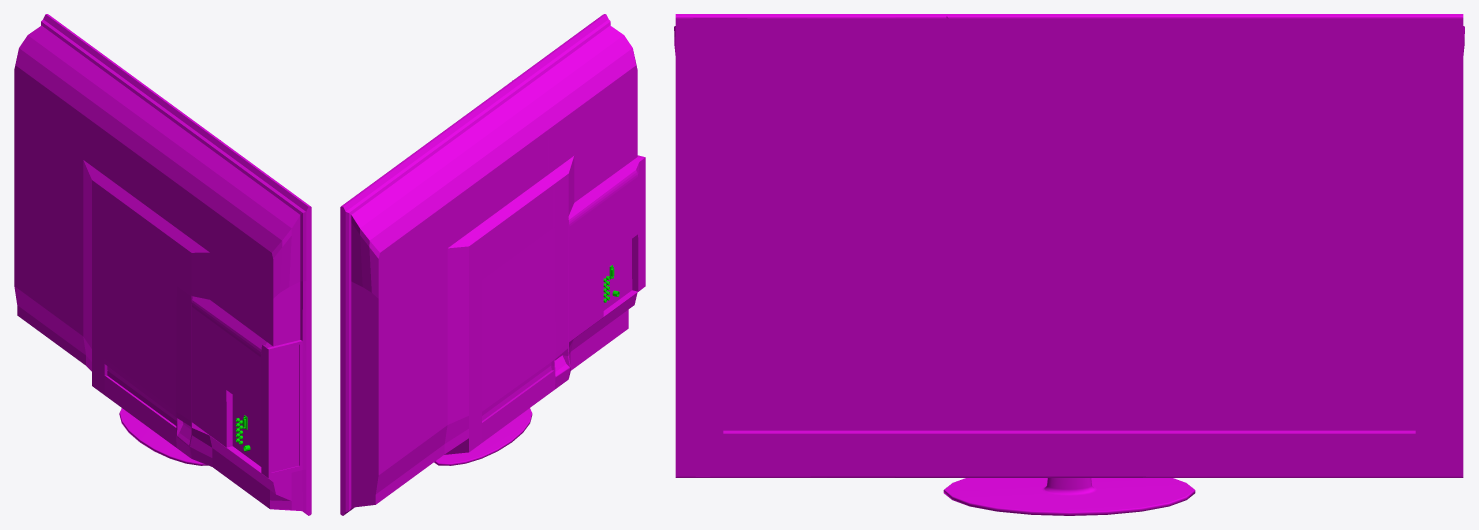
The model's file is television_low.fbx.
3 renders of one model, left to right at view 1: azimuth 30°, elevation 25°; view 2: azimuth 150°, elevation 25°; view 3: azimuth 270°, elevation 25°, orthographic. The views are drawn at different scales.
Visible parts, largest first — view 1: tele_low, base_low; view 2: tele_low, base_low; view 3: tele_low, base_low.
Part boxes in pixels (bbox=[...]): tele_low: bbox=[14, 14, 311, 515]; base_low: bbox=[119, 408, 207, 465]; tele_low: bbox=[340, 14, 645, 515]; base_low: bbox=[434, 408, 532, 465]; tele_low: bbox=[674, 14, 1464, 477]; base_low: bbox=[943, 478, 1195, 515].
Size of the model in its own units: 14.68 by 67.87 by 100.
